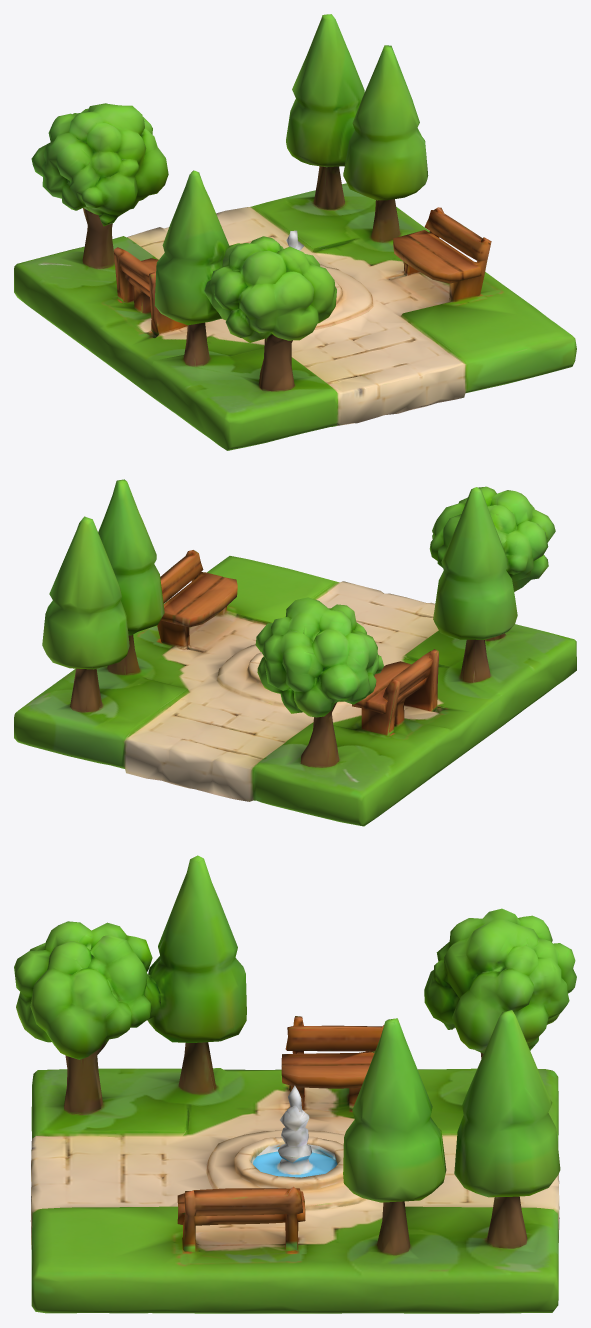
Rendered from Low_poly_city_park_bl_1209213111_texture-v1.glb.
The picture shows the model from 3 angles, top to bottom: view 1: azimuth 30°, elevation 25°; view 2: azimuth 150°, elevation 25°; view 3: azimuth 270°, elevation 25°; orthographic projection. The views are drawn at different scales.
Visible parts, largest first — view 1: Mesh1.0; view 2: Mesh1.0; view 3: Mesh1.0.
Part boxes in pixels (left/top/right/bottom): Mesh1.0: left=14, top=14, right=576, bottom=450; Mesh1.0: left=14, top=479, right=576, bottom=826; Mesh1.0: left=14, top=855, right=576, bottom=1313.
Size of the model in its own units: 8.1 by 5 by 9.24.
1 material, 1 textured.
